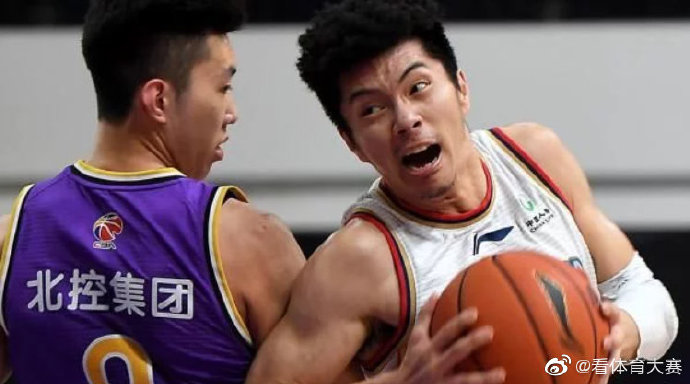ball: (427, 250, 611, 384)
